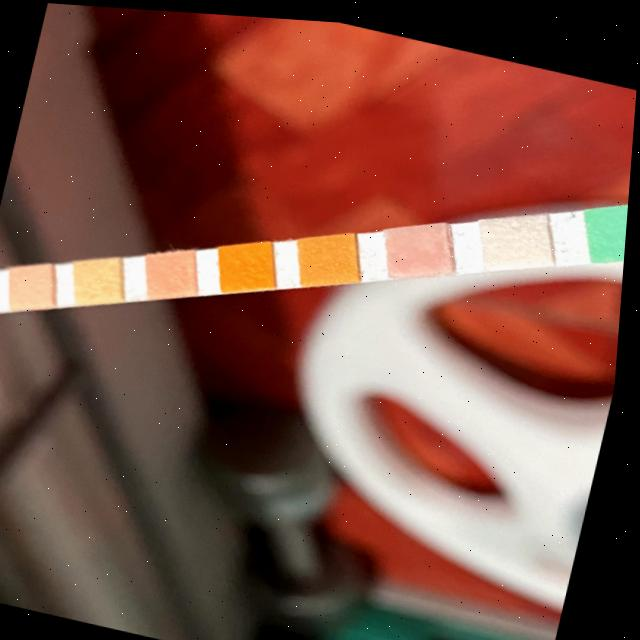Bilirubin: (485, 210, 550, 261)
Blood: (224, 242, 274, 286)
Glucose: (591, 200, 630, 248)
Ketone: (392, 221, 446, 266)
Protein: (79, 257, 122, 300)
SpGravity: (302, 230, 355, 278)
Urobilinogen: (14, 265, 54, 307)
pH: (152, 248, 198, 294)
